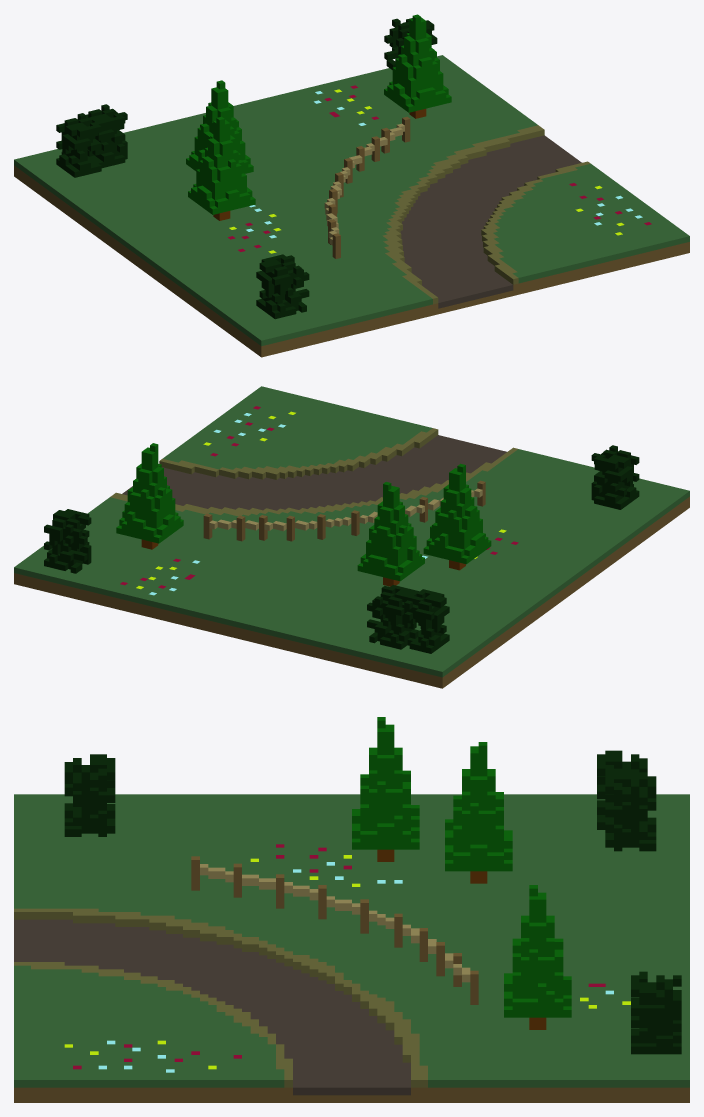
Rendered from slowDirtCorner.obj.
3 renders of one model, top to bottom at view 1: azimuth 30°, elevation 25°; view 2: azimuth 150°, elevation 25°; view 3: azimuth 270°, elevation 25°, orthographic. The views are drawn at different scales.
Parts seen in each view (by area): view 1: slowDirtCorner; view 2: slowDirtCorner; view 3: slowDirtCorner.
Part boxes in pixels (box(x1,y1,x2,y2)): slowDirtCorner: box(14, 14, 689, 357); slowDirtCorner: box(14, 386, 689, 688); slowDirtCorner: box(14, 717, 689, 1102).
Size of the model in its own units: 80 by 21 by 80.
Materials: 1 (1 with a texture image).
